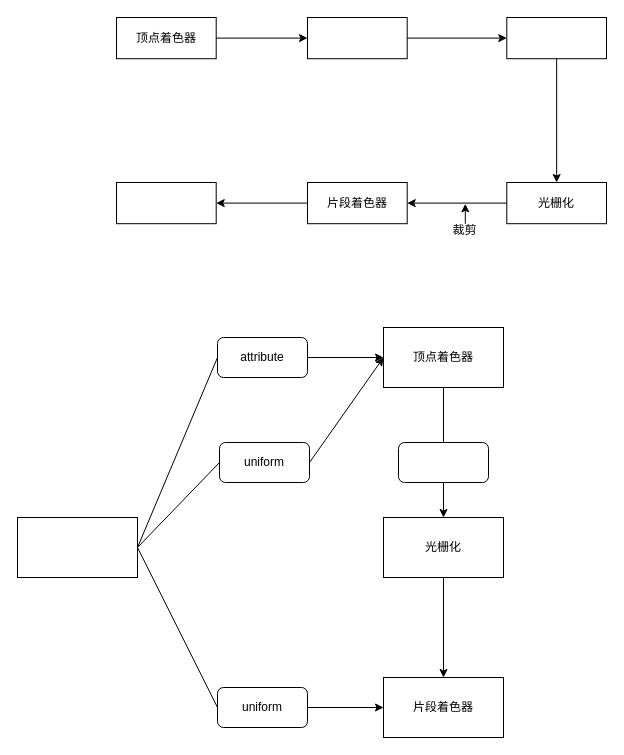
The diagram is 624 pixels wide and 755 high, and some of its shapes have lost their labels. Here are the shapes that lost their labels. From the top down, the centre of each, then its label:
At (356,37): "图元装配".
At (556,37): "几何着色器".
At (166,203): "测试与混合".
At (443,462): "varying".
At (77,547): "JavaScript".
